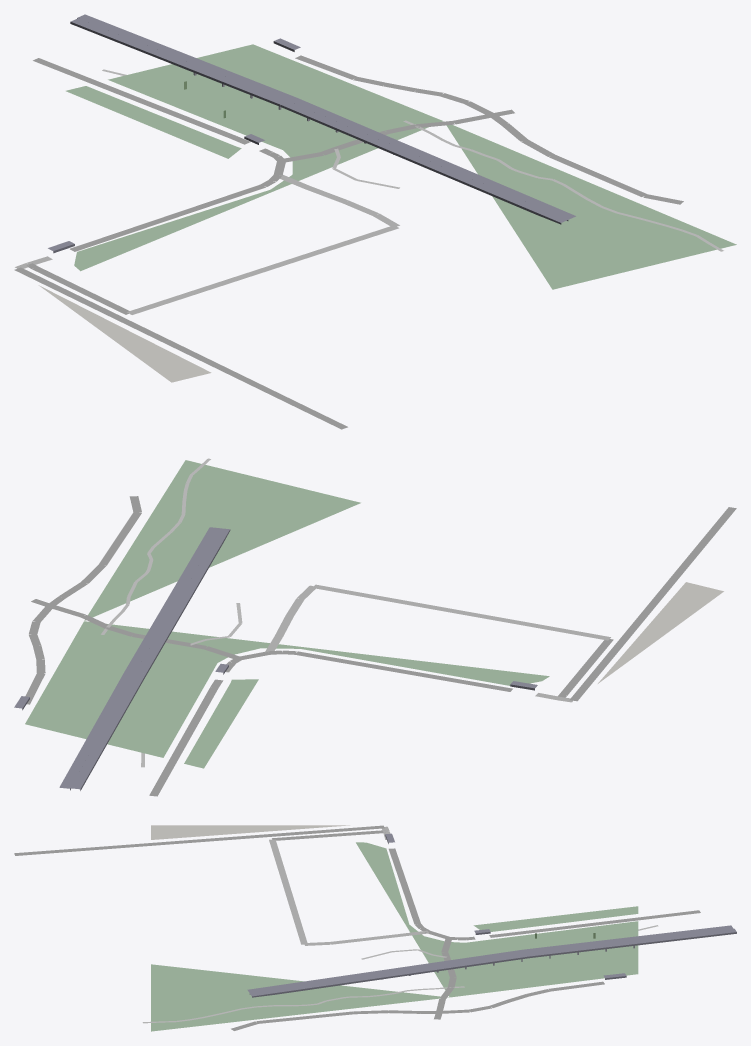
3 renders of one model, top to bottom at view 1: azimuth 30°, elevation 25°; view 2: azimuth 150°, elevation 25°; view 3: azimuth 270°, elevation 25°, orthographic. The views are drawn at different scales.
Size of the model in its own units: 504 by 8.99 by 741.
